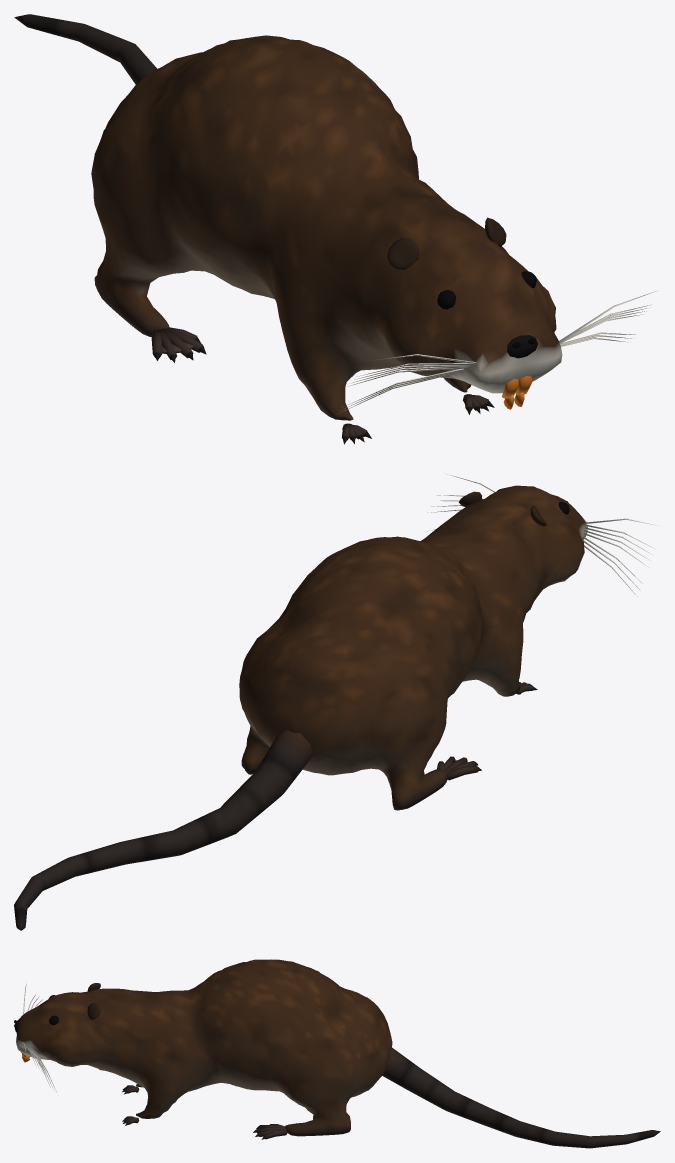
File: Coypu.fbx
The picture shows the model from 3 angles, top to bottom: view 1: azimuth 30°, elevation 25°; view 2: azimuth 150°, elevation 25°; view 3: azimuth 270°, elevation 25°; orthographic projection. The views are drawn at different scales.
Parts seen in each view (by area): view 1: Coypu; view 2: Coypu; view 3: Coypu.
Boxes of the visible parts, x1=… form: Coypu: x1=14, y1=14, x2=656, y2=444; Coypu: x1=14, y1=474, x2=655, y2=930; Coypu: x1=14, y1=959, x2=660, y2=1148.
Size of the model in its own units: 0.3696 by 0.3058 by 1.25.
